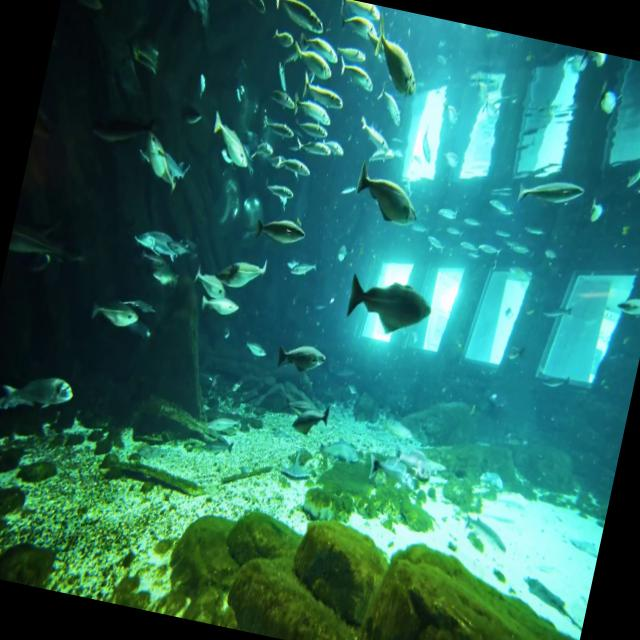fish: (338, 262, 438, 345), (347, 150, 433, 243), (0, 357, 83, 440), (363, 26, 431, 106), (202, 96, 266, 174), (514, 158, 588, 218), (268, 321, 338, 383), (124, 212, 194, 268), (138, 120, 190, 192), (213, 242, 272, 298), (89, 284, 147, 338), (257, 0, 334, 38), (247, 208, 312, 252), (286, 88, 342, 136), (286, 393, 336, 444), (298, 68, 352, 114), (196, 279, 244, 329), (297, 23, 349, 68), (286, 45, 344, 84), (268, 148, 318, 188), (336, 8, 386, 46), (188, 266, 230, 302), (282, 251, 326, 285), (292, 116, 331, 152), (296, 134, 334, 163), (244, 330, 274, 366), (260, 182, 300, 208)
